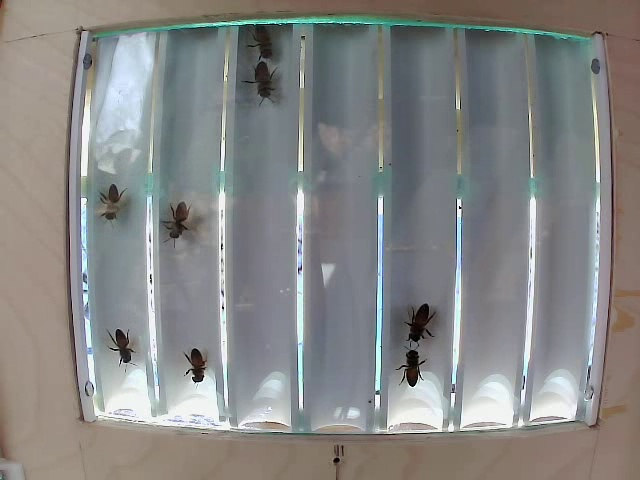bee: (97, 304, 151, 361), (392, 292, 445, 346), (84, 176, 128, 235), (238, 65, 283, 119), (387, 343, 440, 384), (161, 188, 195, 245), (240, 26, 276, 79), (185, 334, 212, 384)
